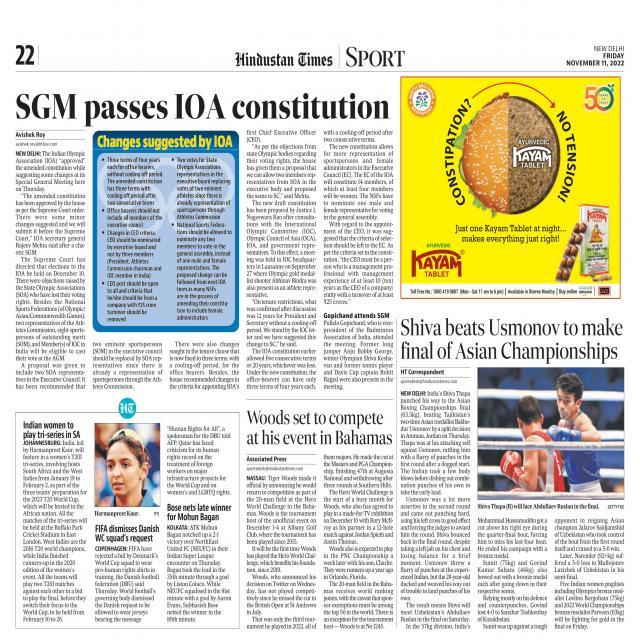Article: (10, 88, 396, 394), (398, 313, 628, 635), (244, 404, 396, 634), (18, 416, 90, 628), (92, 419, 162, 626), (164, 500, 235, 626)
Body: (245, 128, 318, 390), (322, 128, 394, 391), (399, 388, 471, 630), (14, 150, 86, 391), (322, 453, 394, 631), (22, 440, 88, 624), (246, 473, 318, 631), (477, 514, 548, 630), (554, 518, 626, 630), (166, 524, 234, 623), (171, 222, 232, 322), (94, 544, 160, 624), (172, 156, 232, 220), (92, 341, 164, 390), (170, 340, 240, 390), (100, 156, 163, 206), (101, 228, 163, 278), (102, 280, 160, 323), (100, 207, 163, 228)
Date: (565, 52, 626, 68)
Heading: (13, 92, 391, 127), (399, 317, 624, 365), (246, 408, 393, 446), (94, 522, 160, 542), (166, 502, 232, 522), (22, 420, 82, 439)
Highlights: (164, 424, 234, 496), (97, 136, 235, 150)
Image: (402, 75, 622, 298), (478, 367, 624, 500), (95, 423, 160, 507)
Name: (234, 50, 334, 68), (342, 45, 406, 69)
